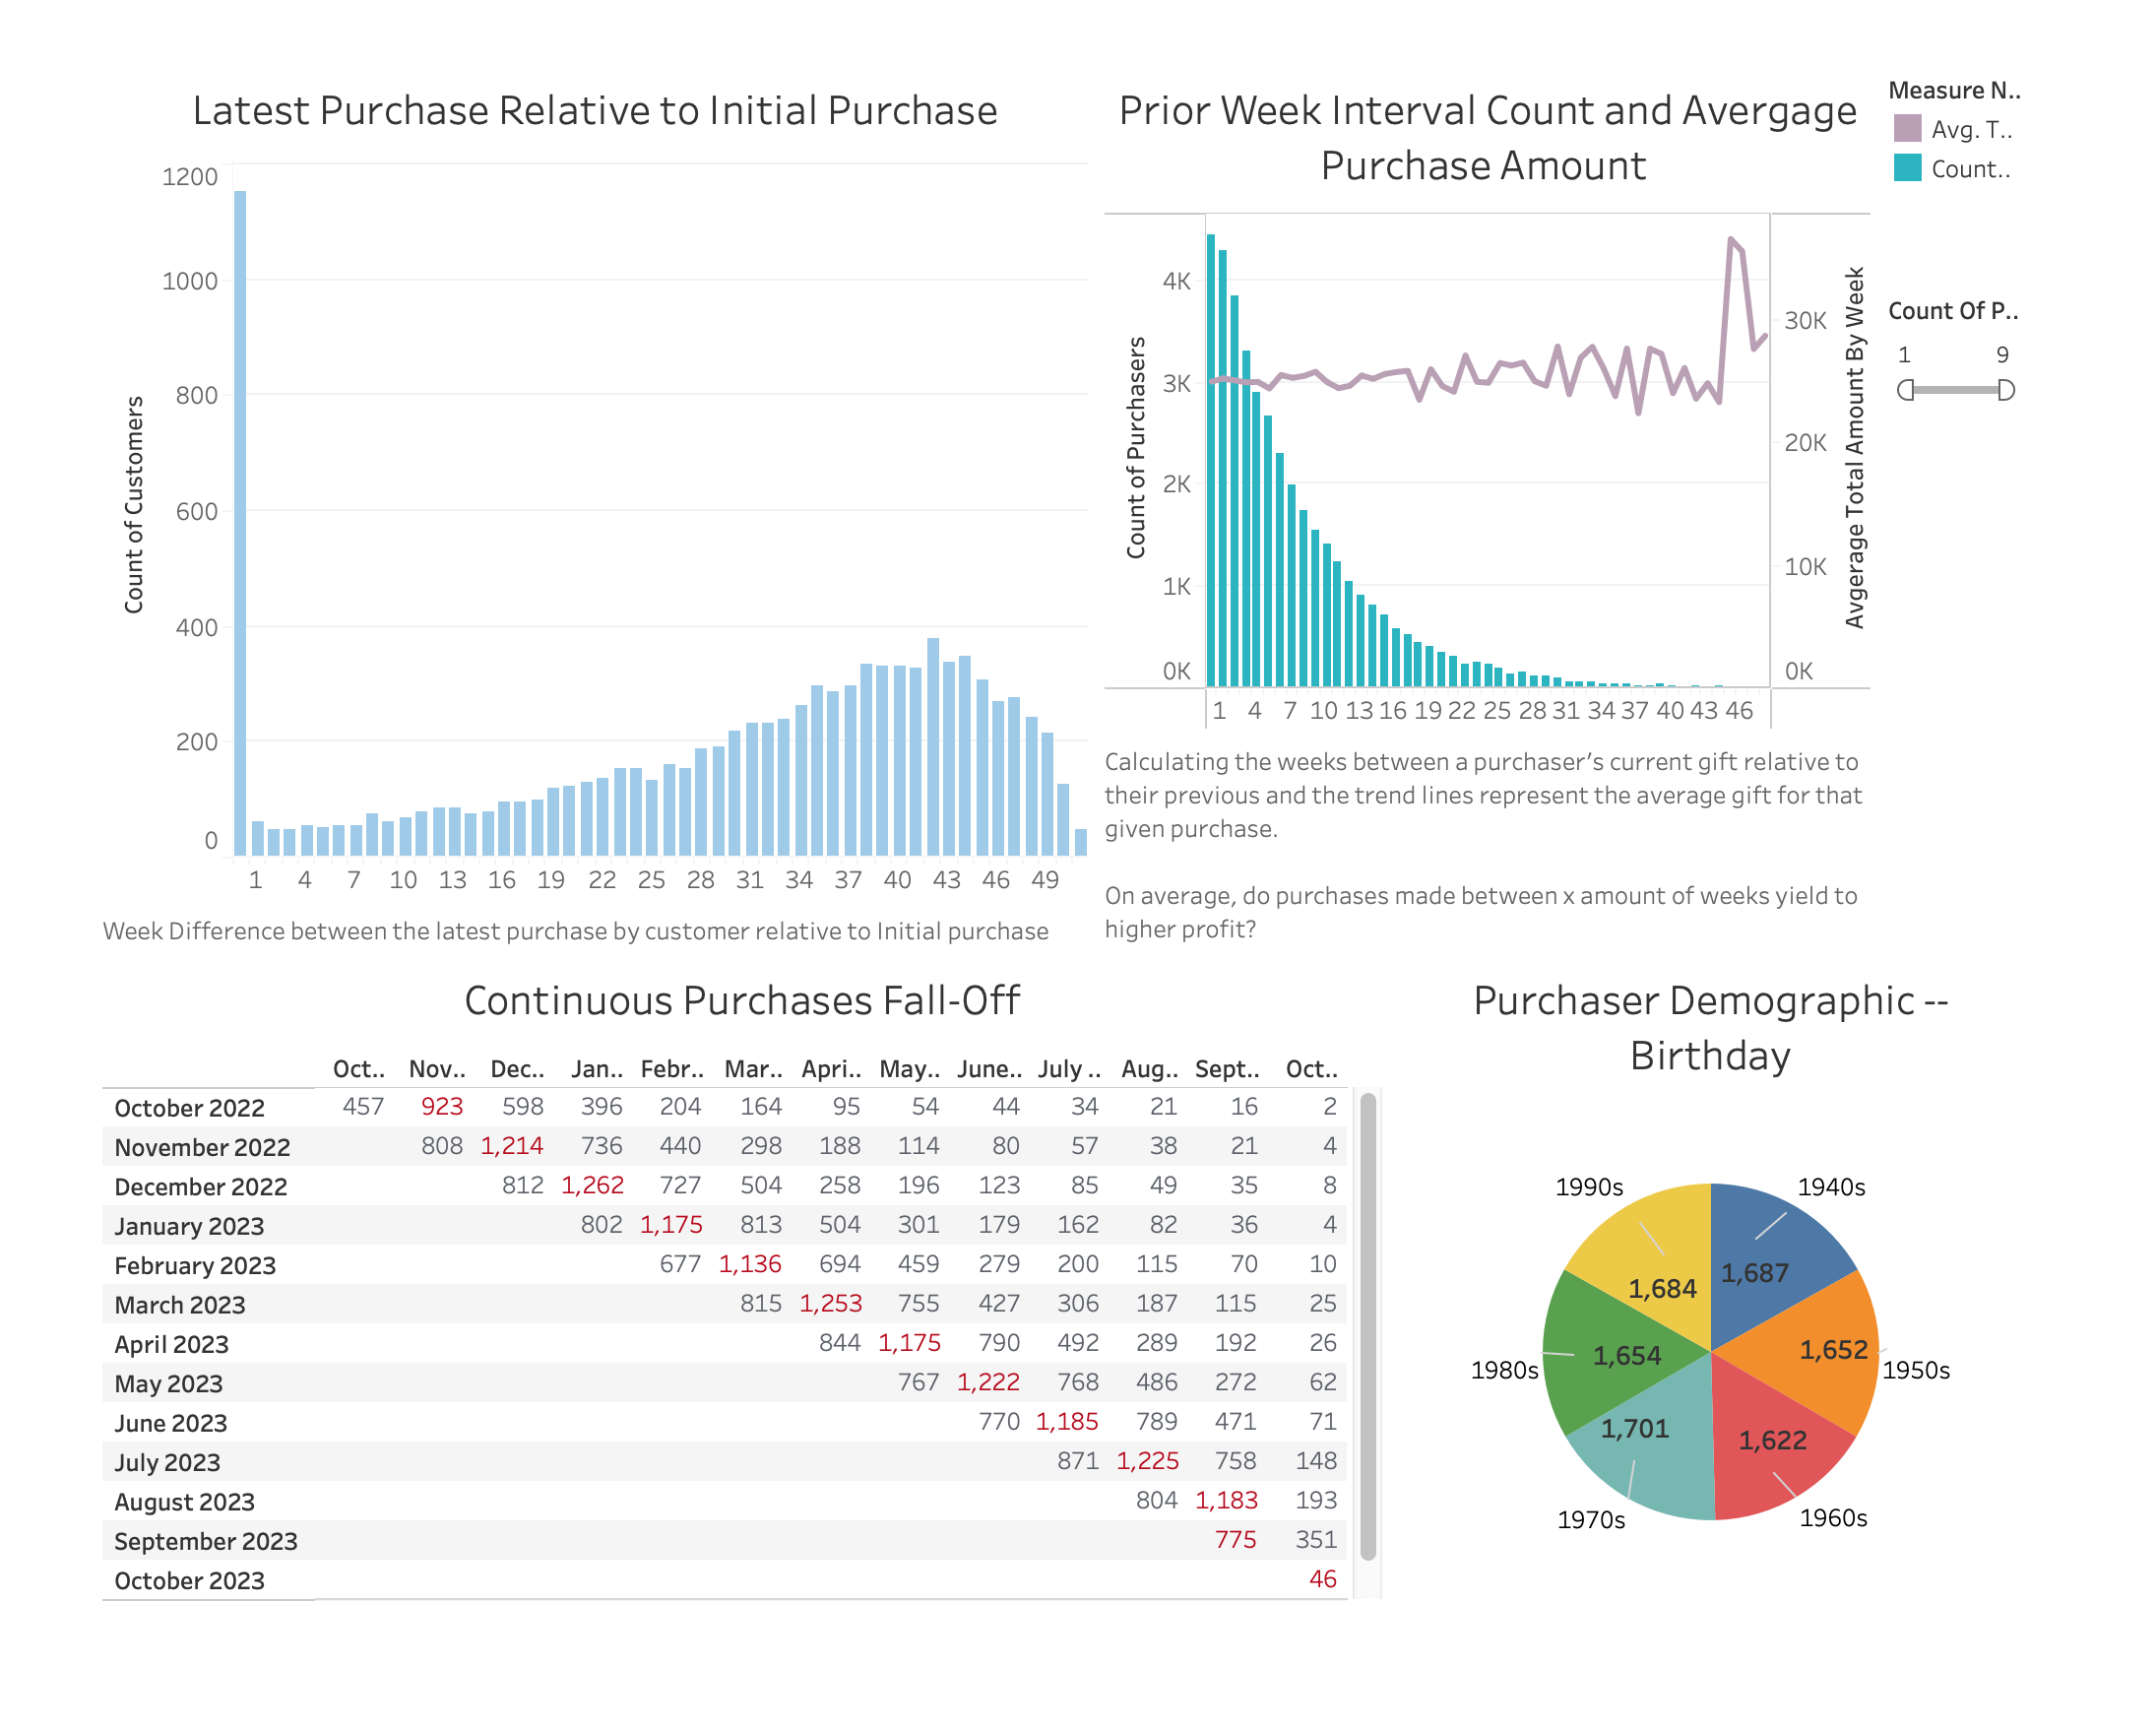

Layout of this report page (visuals, bound fields, positions):
{"tool":"tableau","page":{"name":"CustomerAnalysis","canvas":[1000,800],"ordinal":0},"visuals":[{"type":"worksheet","title":"purchase_date_diff","mark":"Automatic","rows":["_13D06726FB434C538CD35B99E61F0506"],"cols":["max"],"box":[8,8,509,452]},{"type":"worksheet","title":"prior_week_purchase_analysis","mark":"Automatic","rows":["total_amount"],"cols":["previous_purchase_week_diff"],"box":[517,8,398,452]},{"type":"legend","title":"prior_week_purchase_analysis","param":"[federated.1r52rk8134drwn145ngsm1sjnsqp].[:Measure Names]","box":[915,8,77,112]},{"type":"filter","title":"purchase_fall_off","param":"[federated.1r52rk8134drwn145ngsm1sjnsqp].[none:ranking_of_purchase:qk]","box":[915,120,77,69]},{"type":"worksheet","title":"purchase_fall_off","mark":"Automatic","rows":["close_date"],"cols":["following_gift"],"box":[8,460,658,332]},{"type":"worksheet","title":"customer_demographic","mark":"Pie","box":[666,460,326,332]}]}

Visuals, with their boxes in screenshot pixels (x1, y1, x2, y2), scaled from the page's 1000x800 canvas onto the 2156x1731 screenshot:
"purchase_date_diff" worksheet: (left=18, top=18, right=1114, bottom=995)
"prior_week_purchase_analysis" worksheet: (left=1114, top=18, right=1973, bottom=995)
"prior_week_purchase_analysis" legend: (left=1973, top=18, right=2138, bottom=260)
"purchase_fall_off" filter: (left=1973, top=260, right=2138, bottom=409)
"purchase_fall_off" worksheet: (left=18, top=995, right=1436, bottom=1713)
"customer_demographic" worksheet (Pie marks): (left=1436, top=995, right=2138, bottom=1713)
